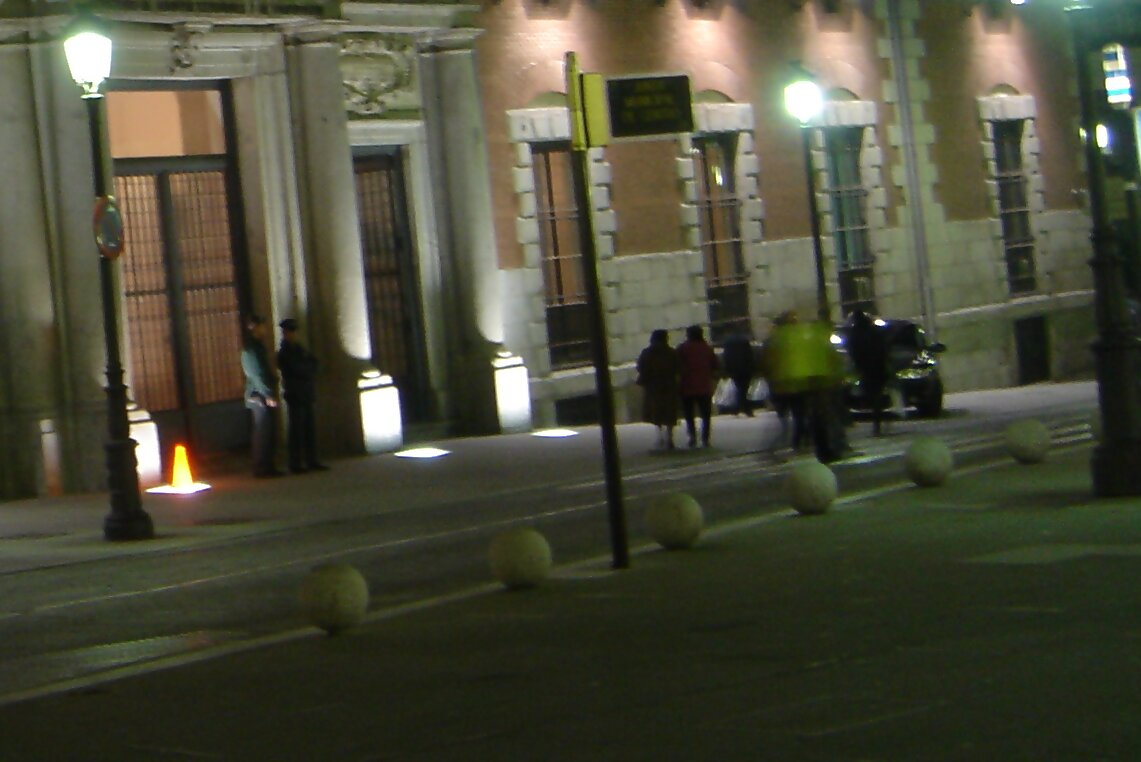person: (264, 312, 334, 481), (230, 303, 287, 477)
